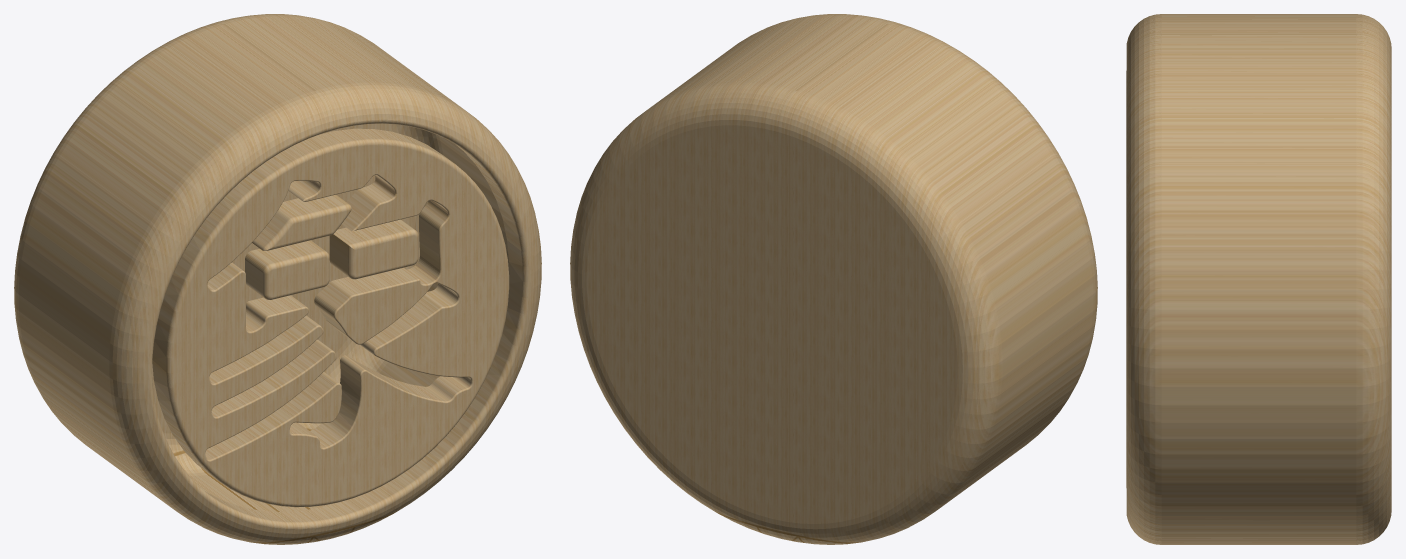
File: h01_chess_black_elephant_wood.obj
The picture shows the model from 3 angles, left to right: view 1: azimuth 30°, elevation 25°; view 2: azimuth 150°, elevation 25°; view 3: azimuth 270°, elevation 25°; orthographic projection. The views are drawn at different scales.
Bounding box in the file's own units: 0.03 × 0.03 × 0.015.
1 material, 1 textured.
